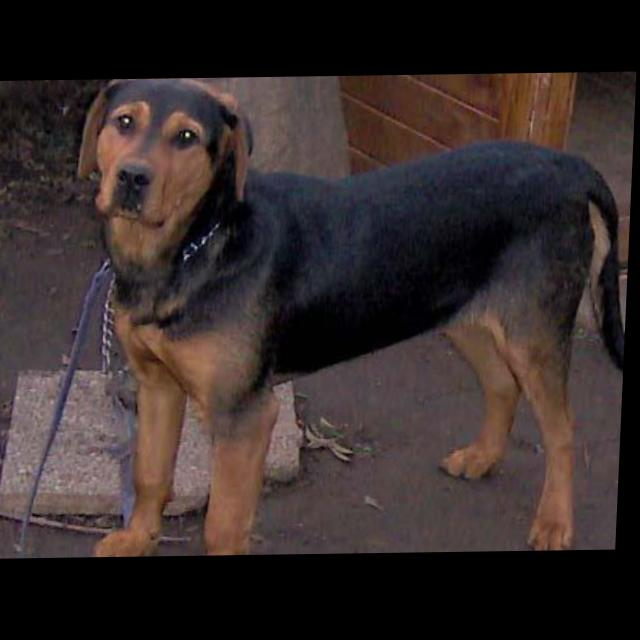rottweiler: (64, 75, 638, 559)
